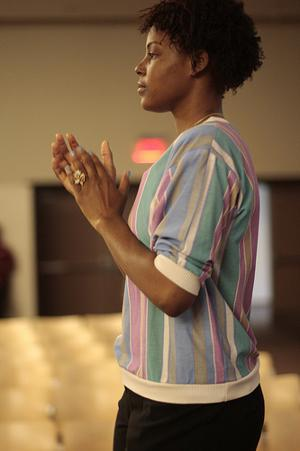person: (52, 3, 267, 449)
